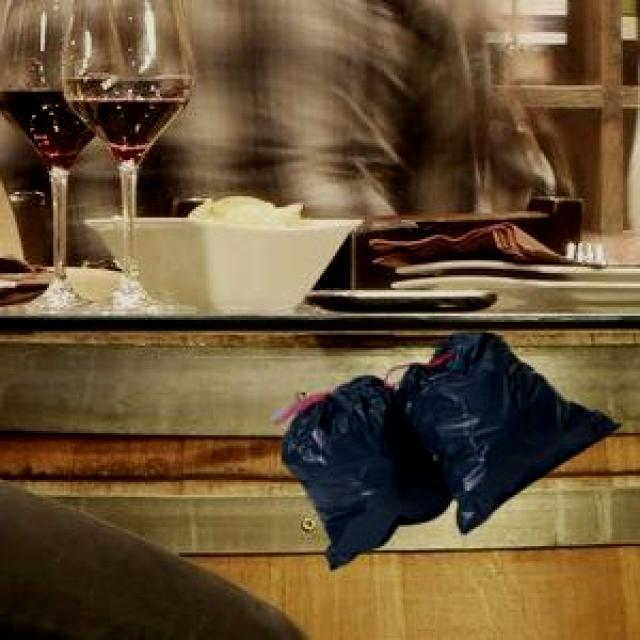Trashbag: (416, 325, 624, 541), (276, 376, 444, 578)
